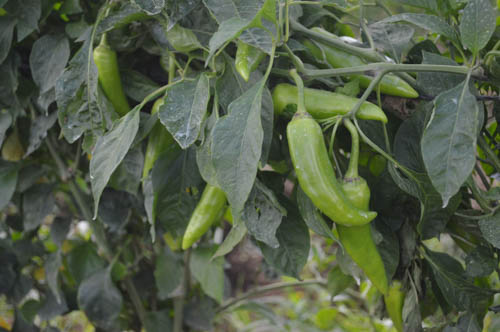ChiliPepper: (286, 117, 376, 226), (298, 26, 420, 100), (331, 174, 387, 292), (269, 83, 392, 122), (141, 100, 182, 185), (184, 184, 233, 255), (93, 53, 127, 112), (379, 281, 407, 326)
